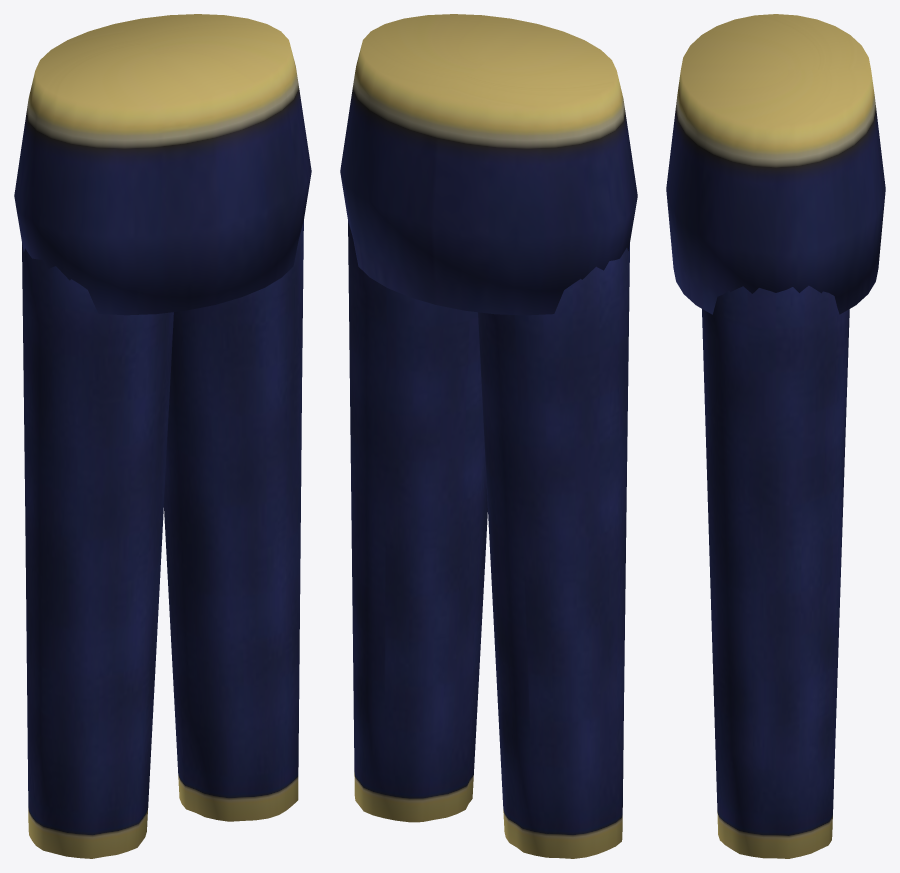
Rendered from night_pants_legs.glb.
The picture shows the model from 3 angles, left to right: view 1: azimuth 30°, elevation 25°; view 2: azimuth 150°, elevation 25°; view 3: azimuth 270°, elevation 25°; orthographic projection. The views are drawn at different scales.
Parts seen in each view (by area): view 1: night_pants_legs; view 2: night_pants_legs; view 3: night_pants_legs.
Boxes of the visible parts, box(x1,y1,x2,y2) form: night_pants_legs: box(14, 14, 311, 858); night_pants_legs: box(340, 14, 637, 858); night_pants_legs: box(666, 14, 885, 858).
Size of the model in its own units: 0.21 by 0.55 by 0.15.
1 material, 1 textured.
